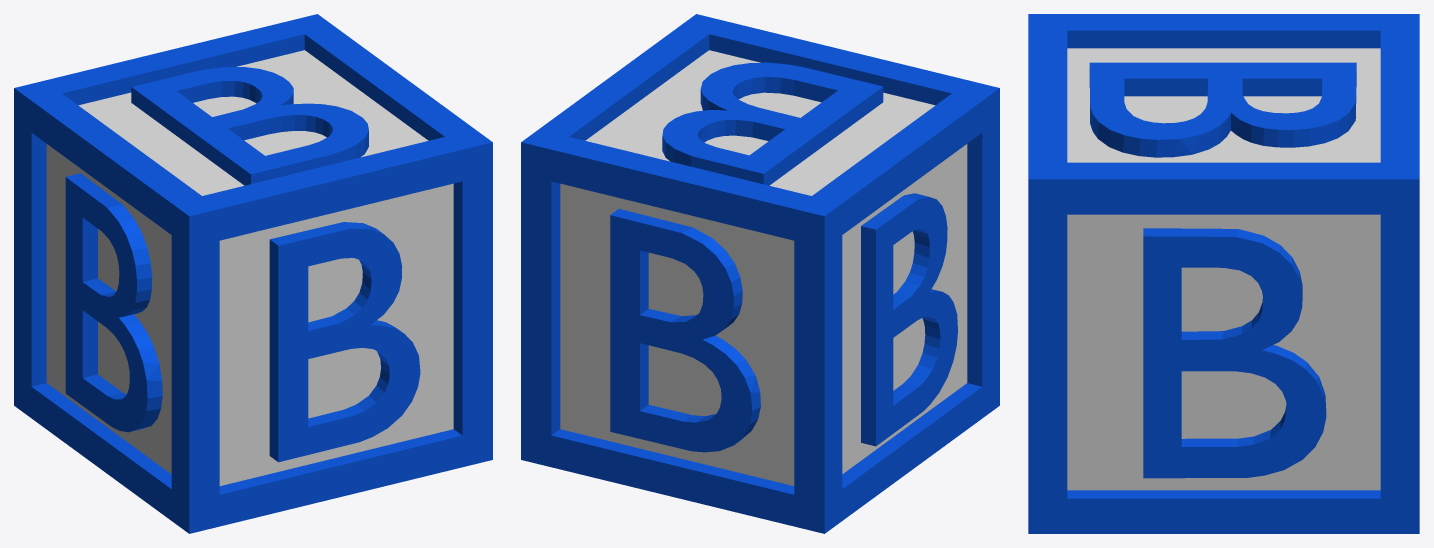
3 views of the same model, side by side, from view 1: azimuth 30°, elevation 25°; view 2: azimuth 150°, elevation 25°; view 3: azimuth 270°, elevation 25° (orthographic). The views are drawn at different scales.
Visible parts, largest first — view 1: Cube, Text.001, Text.002, Text; view 2: Cube, Text.004, Text.002, Text; view 3: Cube, Text.003, Text.
Boxes of the visible parts, bbox=[...] form: Cube: bbox=[14, 14, 492, 533]; Text.001: bbox=[269, 222, 420, 462]; Text.002: bbox=[65, 173, 162, 432]; Text: bbox=[131, 67, 368, 185]; Cube: bbox=[521, 14, 999, 533]; Text.004: bbox=[610, 209, 760, 452]; Text.002: bbox=[861, 193, 957, 446]; Text: bbox=[662, 62, 883, 185]; Cube: bbox=[1028, 14, 1419, 533]; Text.003: bbox=[1143, 228, 1326, 478]; Text: bbox=[1089, 62, 1356, 157].
Size of the model in its own units: 200 by 200 by 200.
